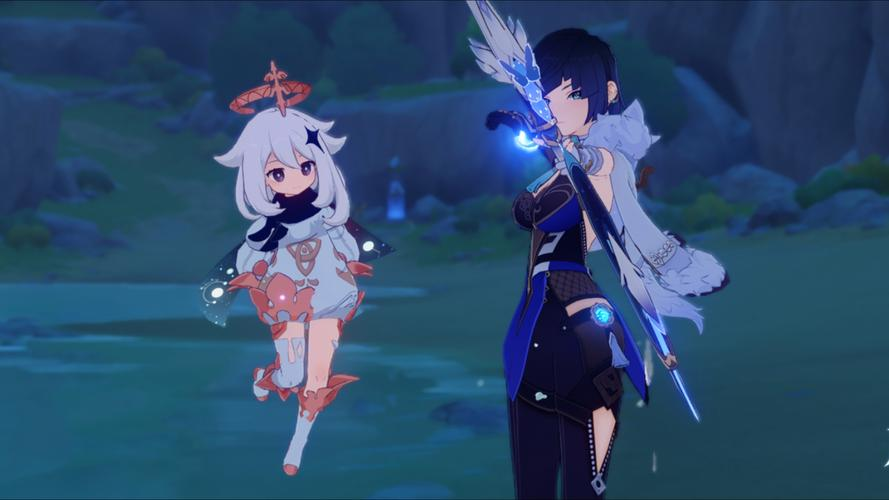夜兰: (466, 23, 675, 500)
